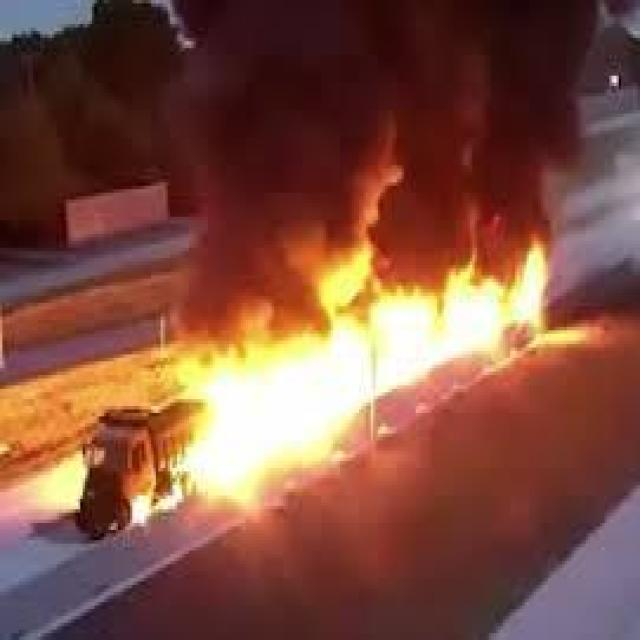fire: (80, 226, 573, 517)
